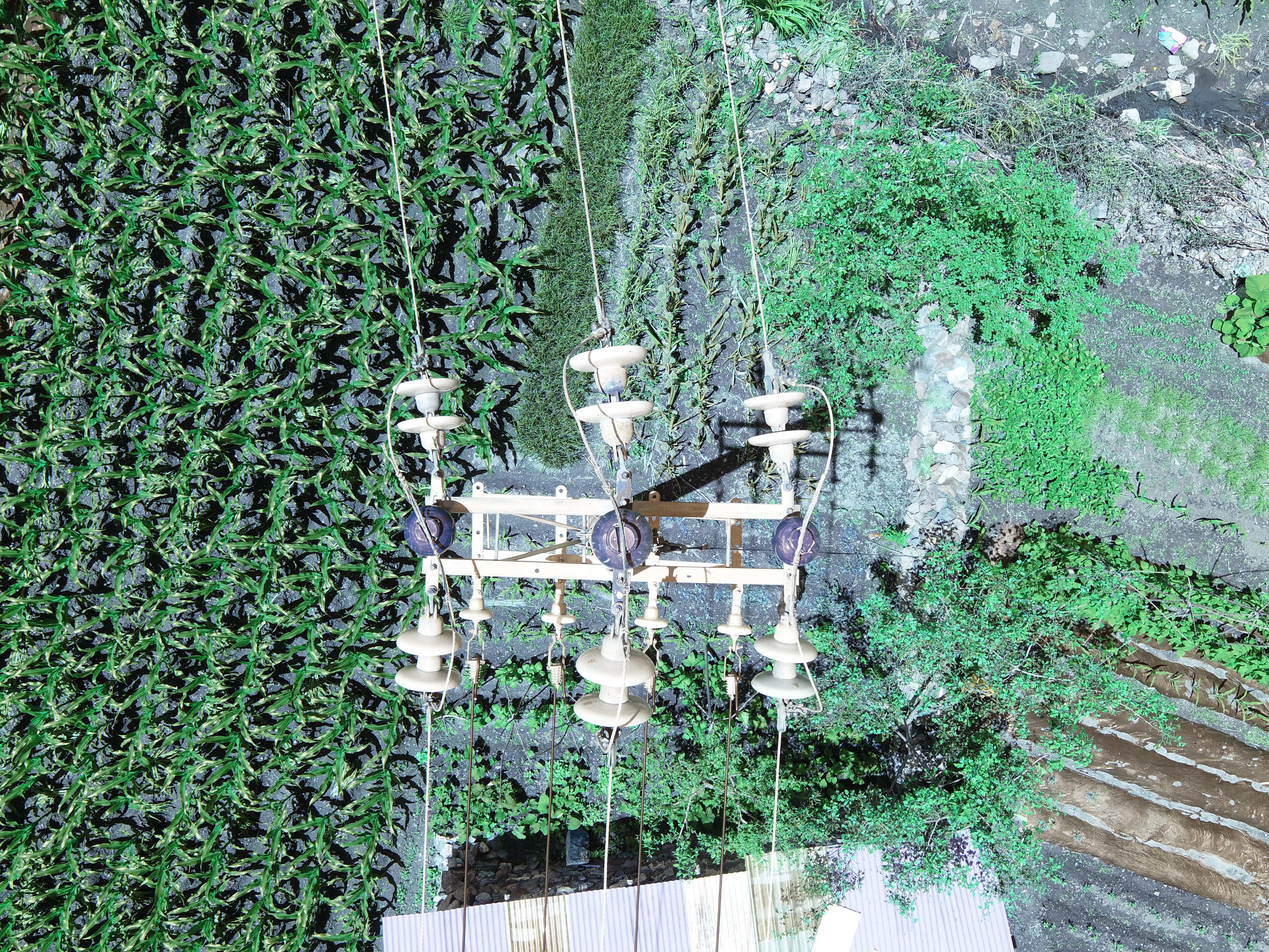severe_soiling_no_discharge_whole: (590, 507, 657, 574), (400, 504, 457, 559), (772, 515, 823, 566)
